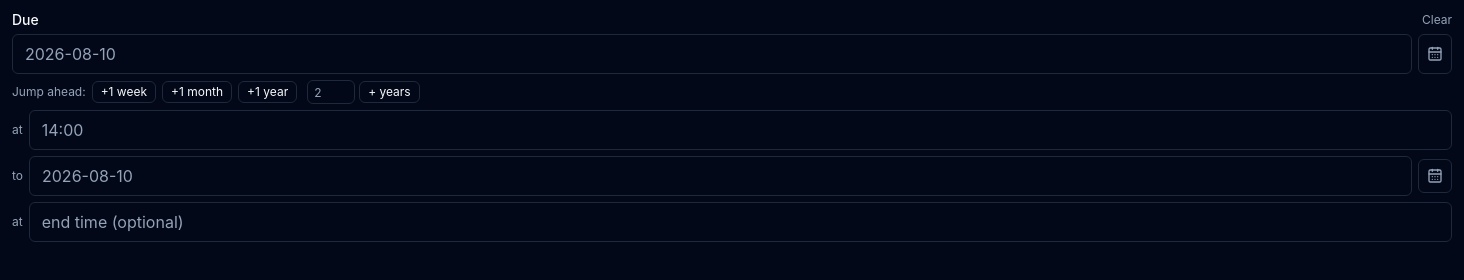
Test: DueFieldset › flags a same-day range whose end time precedes the start time (#508)
The image size is (1464, 280).
Type "09:00" into the field named "Due end time (optional)". click: (740, 222)
box: [29, 202, 1452, 242]
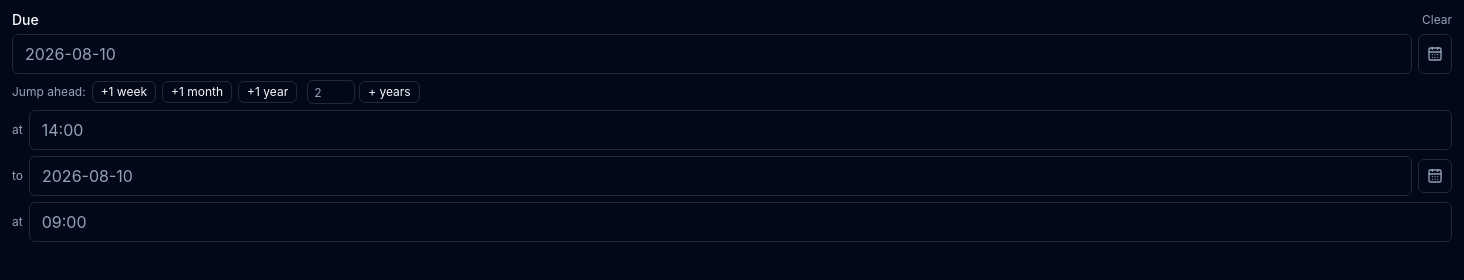
Leave the field named "Due end time (optional)", box [29, 202, 1452, 242]
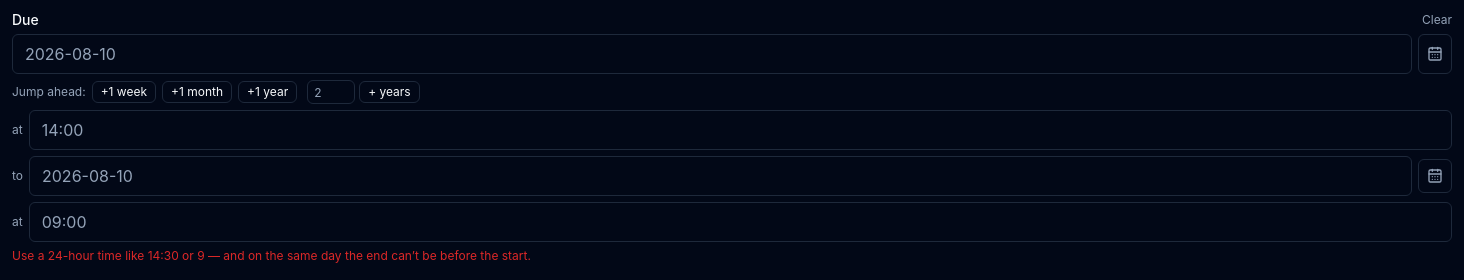
Now the message is shown, box [12, 248, 531, 263]
